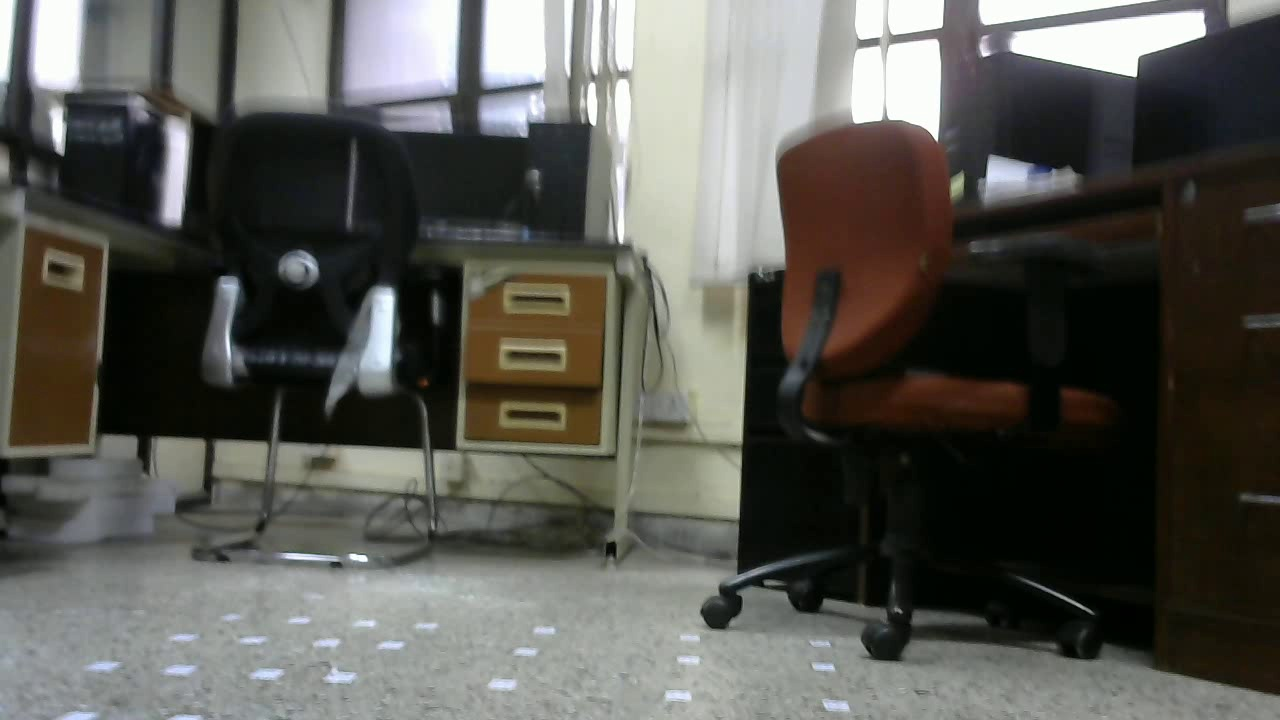chair: (700, 120, 1125, 664), (193, 112, 437, 569)
